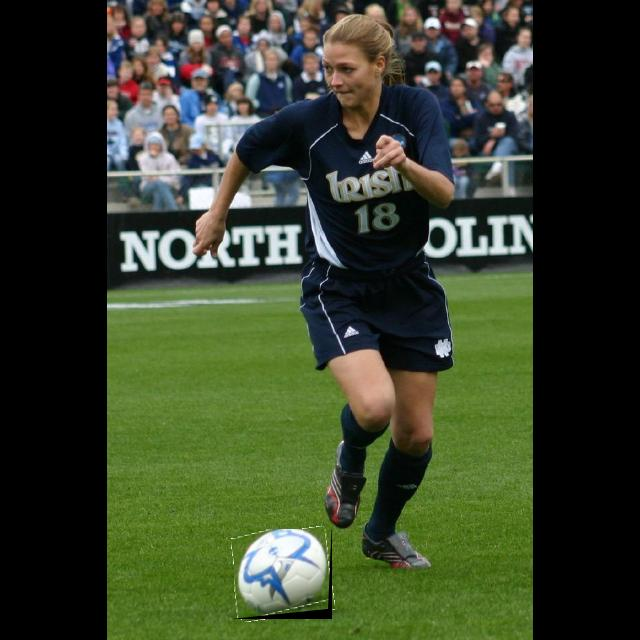Football: (234, 529, 332, 619)
